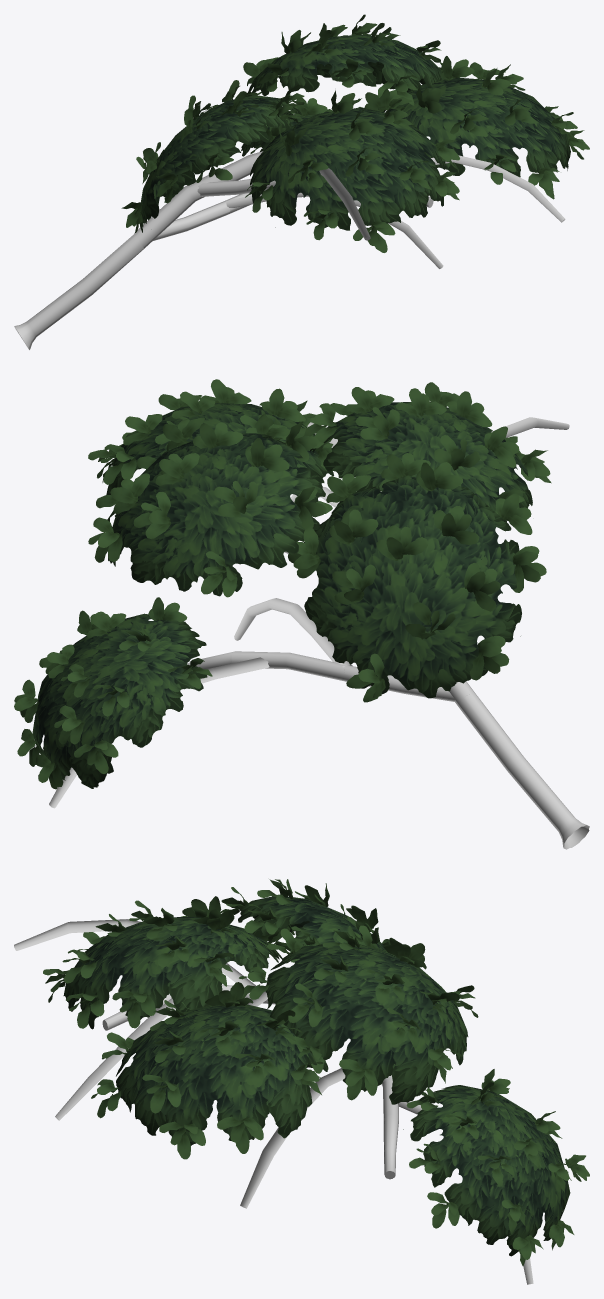
File: LeafBranch.fbx
3 renders of one model, top to bottom at view 1: azimuth 30°, elevation 25°; view 2: azimuth 150°, elevation 25°; view 3: azimuth 270°, elevation 25°, orthographic. The views are drawn at different scales.
Visible parts, largest first — view 1: pCylinder120; view 2: pCylinder120; view 3: pCylinder120.
Boxes of the visible parts, <box> form: pCylinder120: <box>14,14,589,349</box>; pCylinder120: <box>14,379,589,849</box>; pCylinder120: <box>14,879,589,1284</box>.
Size of the model in its own units: 67.23 by 36.78 by 62.33.
